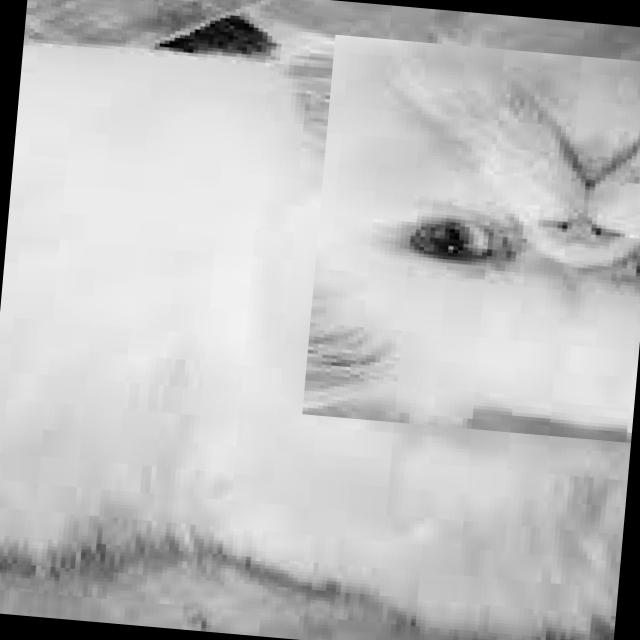iran: (301, 34, 640, 443)
